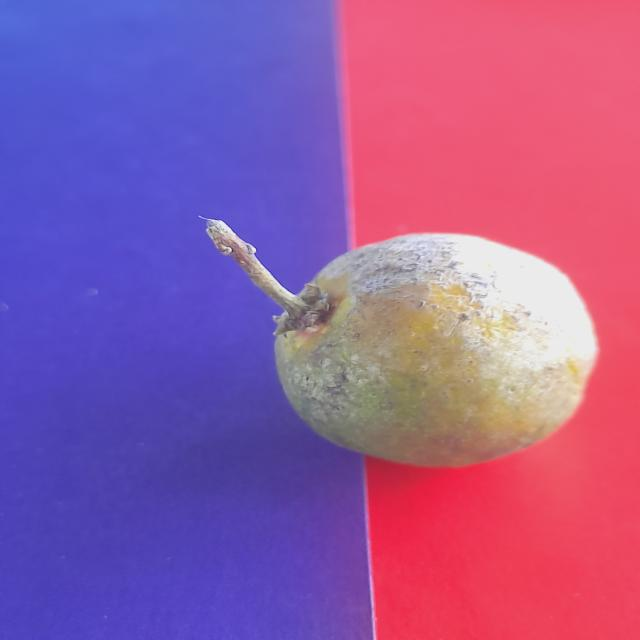thrips: (262, 211, 604, 477)
